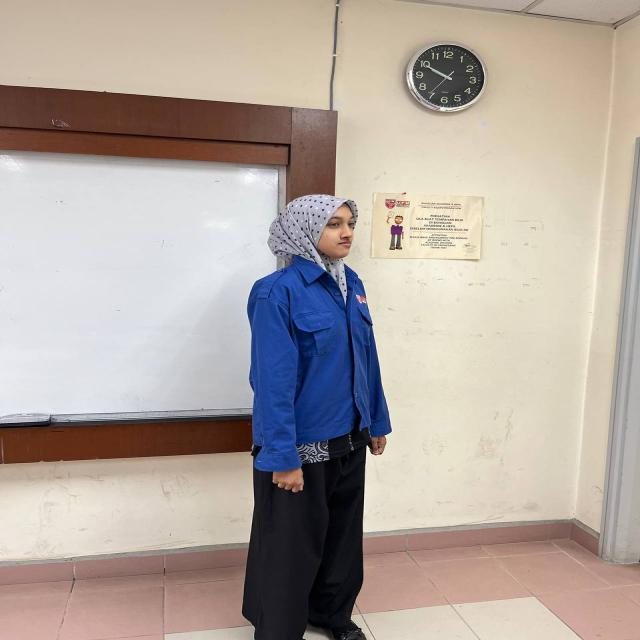person_with_labcoat: (242, 194, 391, 640)
